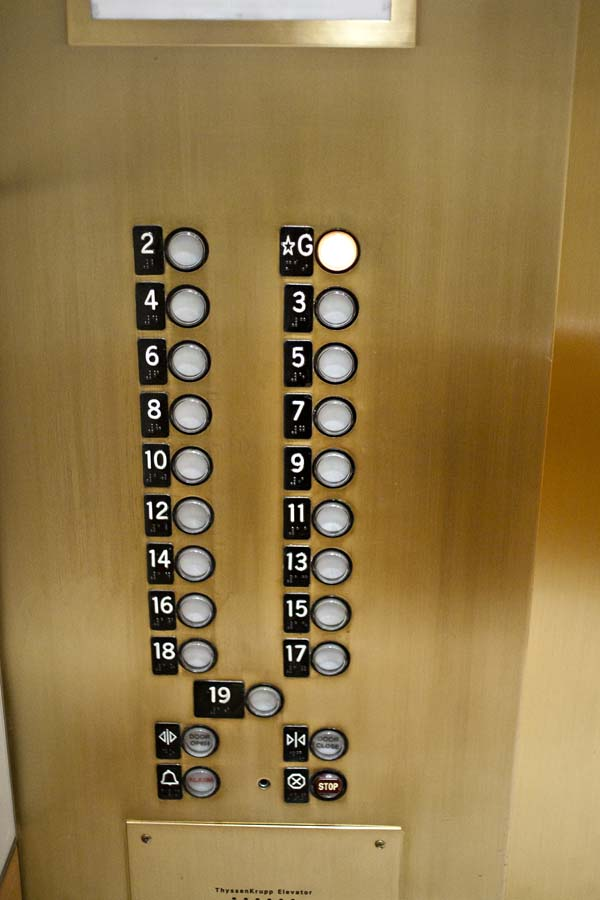button: (276, 223, 363, 277), (191, 676, 287, 722), (128, 224, 210, 277), (281, 280, 361, 334), (132, 280, 212, 331), (280, 444, 361, 493), (282, 339, 360, 389), (137, 390, 214, 439), (281, 392, 358, 441), (135, 337, 211, 386), (140, 442, 215, 490), (142, 492, 215, 540), (280, 496, 356, 542), (144, 541, 217, 587), (281, 544, 355, 589), (280, 591, 355, 635), (146, 588, 219, 633), (149, 634, 221, 678), (282, 637, 354, 680)
